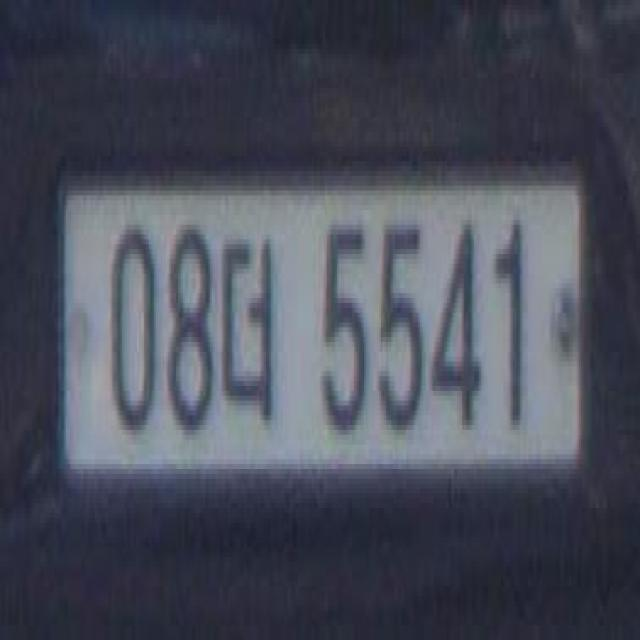illegal_plate: (56, 147, 592, 514)
